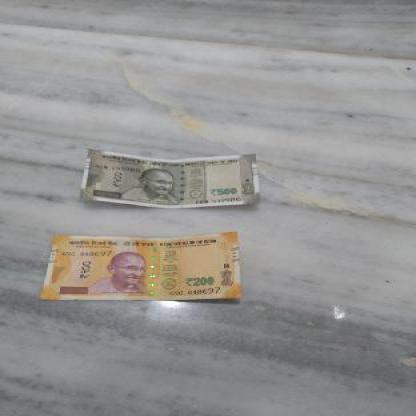New200Front: (49, 236, 243, 298)
New500Front: (86, 147, 262, 211)
